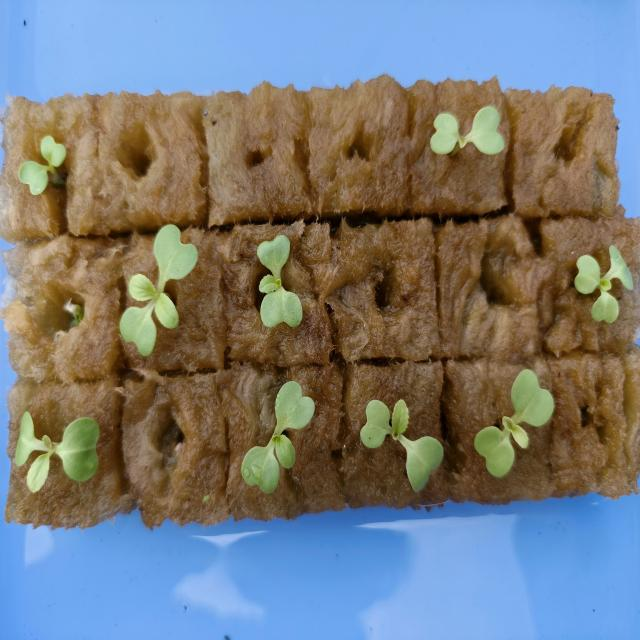daun-pakcoy: (474, 416, 528, 477), (154, 225, 198, 292), (56, 418, 99, 481), (398, 434, 443, 492), (510, 369, 554, 426), (274, 381, 315, 435), (119, 301, 157, 356), (241, 439, 279, 493), (466, 106, 505, 154), (260, 289, 302, 328), (360, 399, 392, 448), (257, 235, 290, 279), (15, 411, 40, 466), (604, 245, 633, 290), (430, 113, 459, 155), (27, 450, 52, 492), (19, 161, 49, 195), (574, 255, 600, 294), (39, 134, 67, 168), (591, 291, 618, 323), (155, 293, 179, 328), (128, 274, 158, 301), (272, 434, 295, 468), (391, 399, 408, 440), (252, 274, 281, 298)
